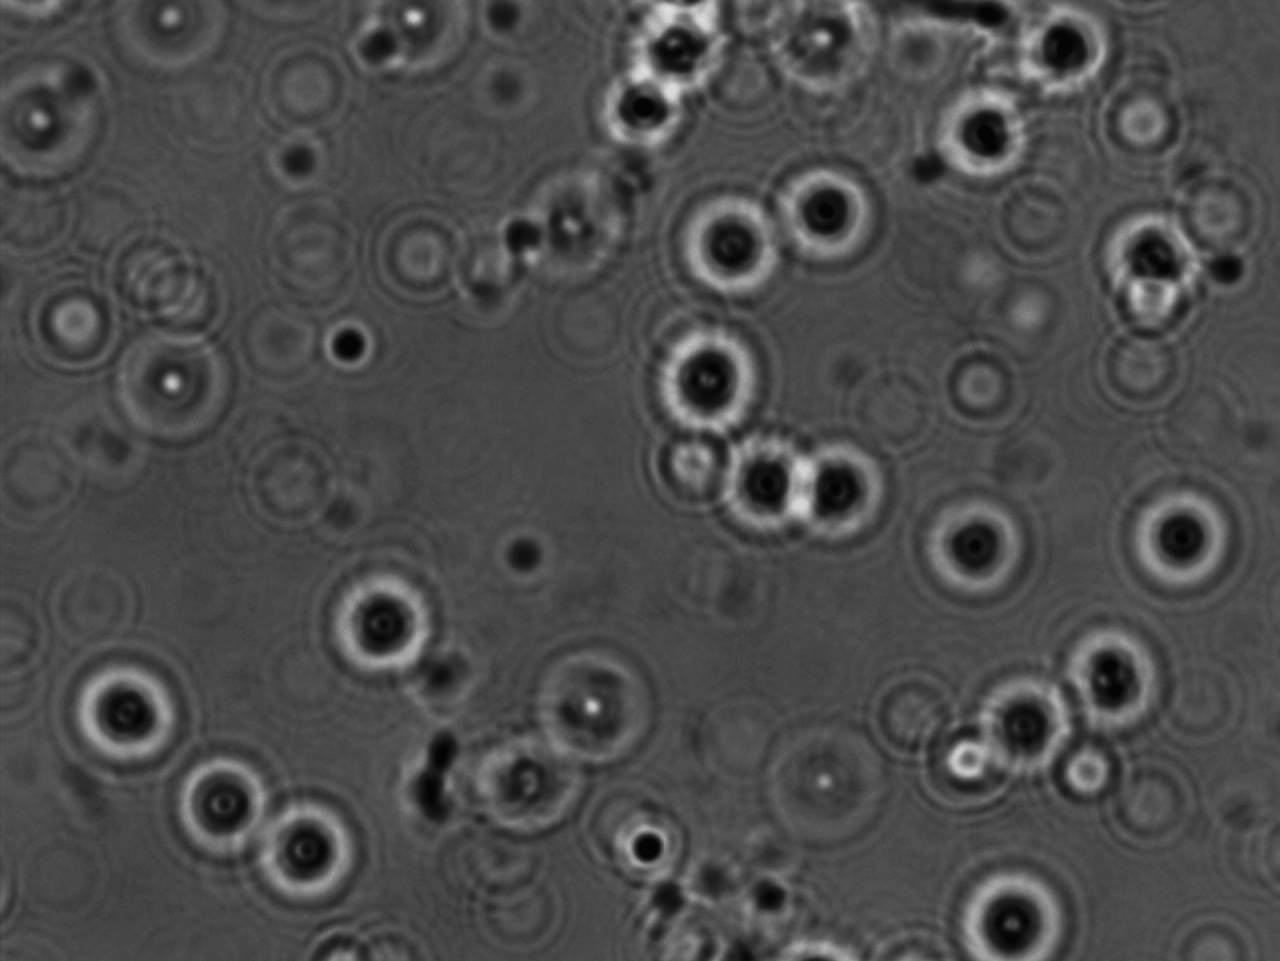depth:-16: (39, 641, 187, 788), (773, 423, 913, 563), (965, 648, 1100, 792), (312, 558, 451, 697), (636, 312, 783, 442), (690, 410, 826, 549), (1119, 466, 1253, 608), (237, 790, 389, 911), (899, 488, 1039, 618), (656, 172, 788, 307), (148, 723, 282, 853), (1048, 616, 1171, 751), (756, 147, 875, 286), (946, 846, 1076, 961), (922, 77, 1042, 193)
